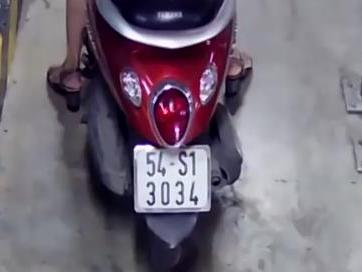num_plate: (133, 145, 211, 211)
